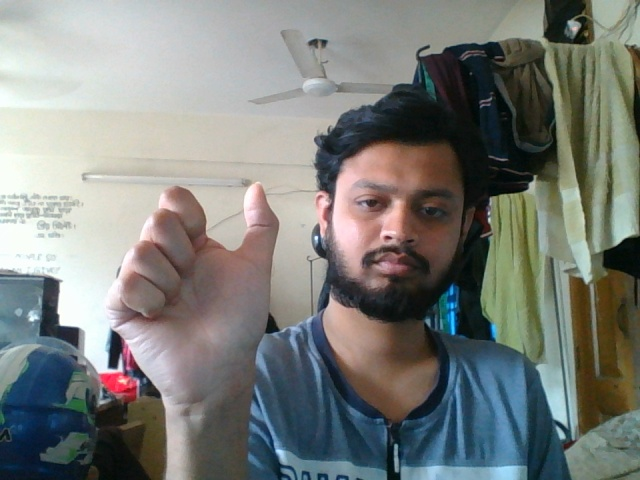dho: (102, 173, 295, 433)
